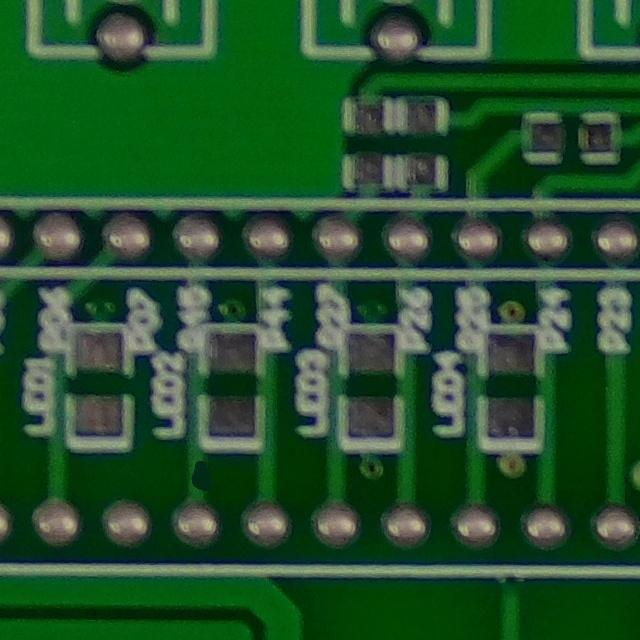mouse_bite: (168, 450, 227, 493)
